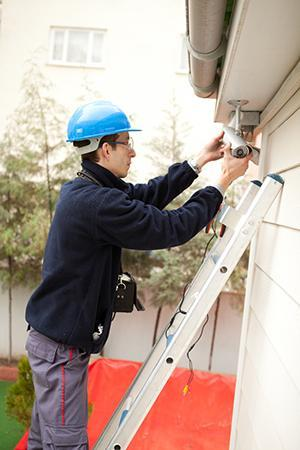tutu: (220, 123, 255, 170)
